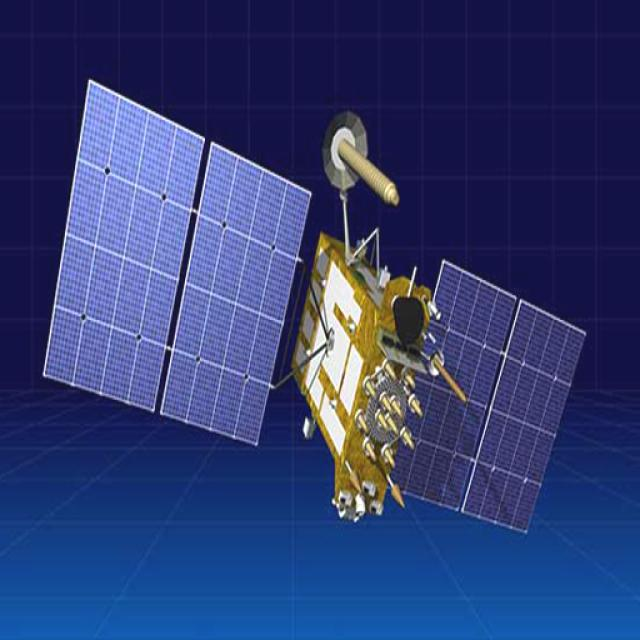satellite: (39, 71, 592, 558)
